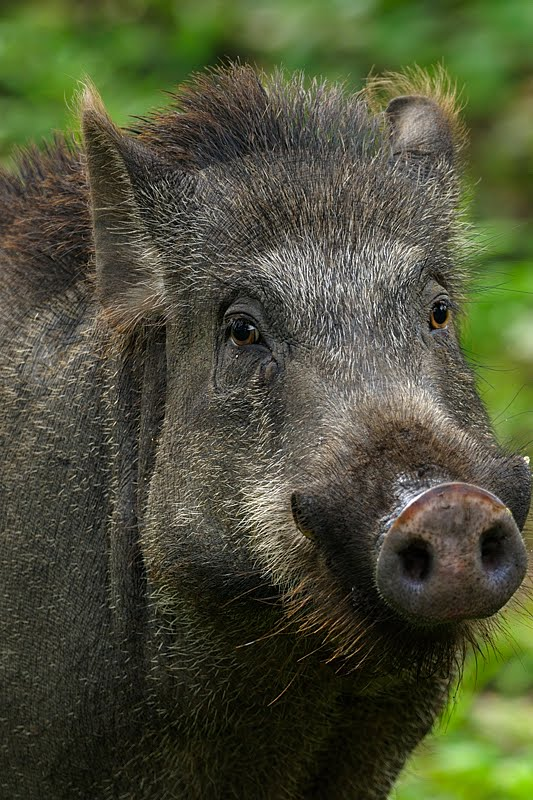wild boar: (1, 40, 531, 800)
